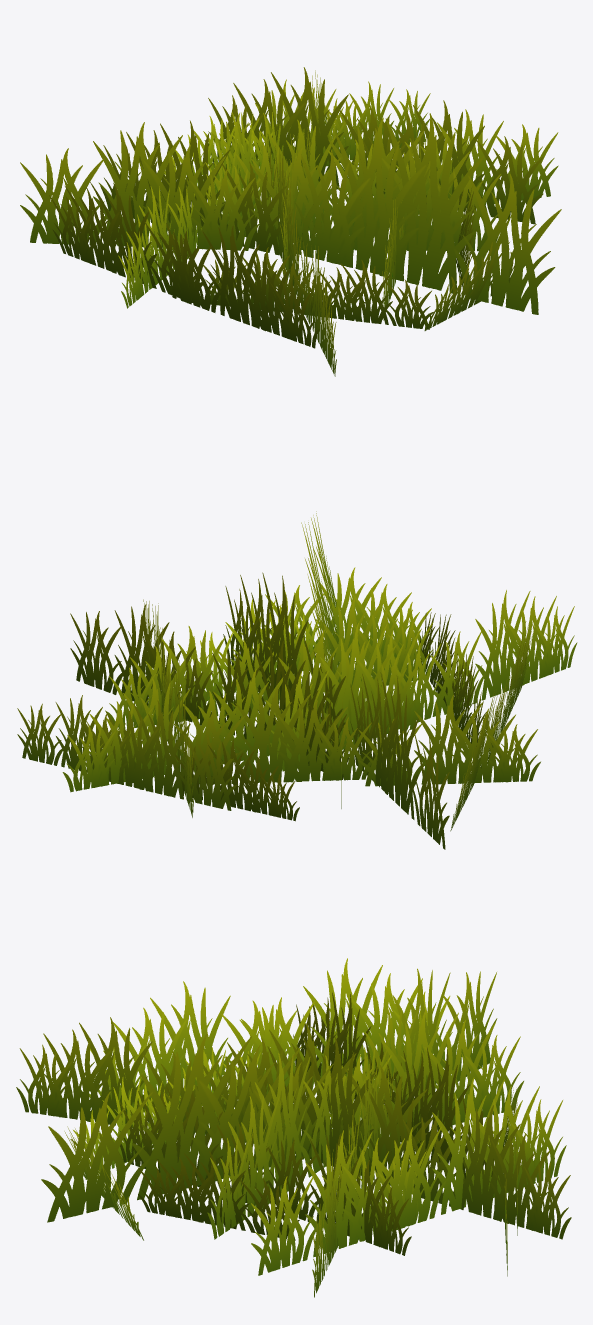
Rendered from high_grass_13.gltf.
3 renders of one model, top to bottom at view 1: azimuth 30°, elevation 25°; view 2: azimuth 150°, elevation 25°; view 3: azimuth 270°, elevation 25°, orthographic. The views are drawn at different scales.
Parts seen in each view (by area): view 1: default; view 2: default; view 3: default.
Boxes of the visible parts, bbox=[...] form: default: bbox=[20, 67, 561, 376]; default: bbox=[17, 511, 577, 849]; default: bbox=[16, 958, 571, 1297].
Bounding box in the file's own units: 1.91 × 0.7728 × 1.84.
1 material, 1 textured.
